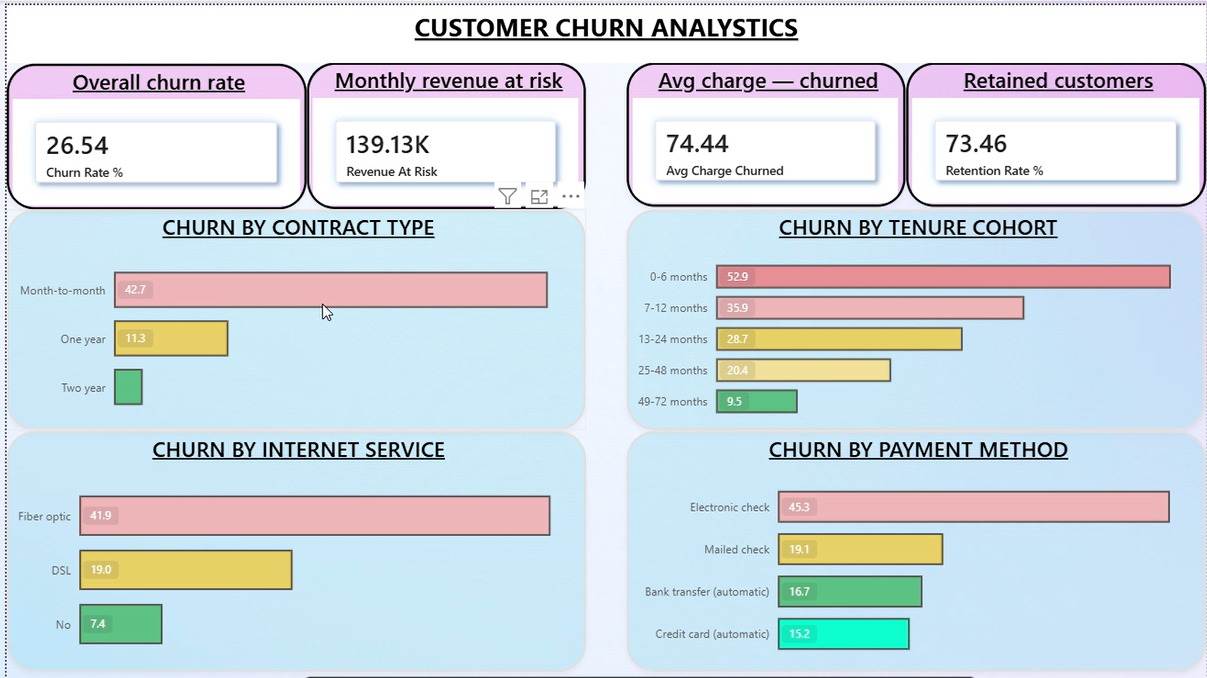

The dashboard page shown, as its layout file describes it:
{"tool":"powerbi","page":{"name":"Page 1","canvas":[1280,720],"ordinal":0},"visuals":[{"type":"cardVisual","title":"Overall churn rate","fields":{"Data":["Telco-Customer-Churn-Dataset.Churn Rate %"]},"box":[0,62.8,320,155.1],"z":0},{"type":"cardVisual","title":"Monthly revenue at risk","fields":{"Data":["Telco-Customer-Churn-Dataset.Revenue At Risk"]},"box":[320,61.5,297.8,156.3],"z":1000},{"type":"cardVisual","title":"Avg charge — churned","fields":{"Data":["Telco-Customer-Churn-Dataset.Avg Charge Churned"]},"box":[662.2,61.5,297.8,153.8],"z":2000},{"type":"cardVisual","title":"Retained customers","fields":{"Data":["Telco-Customer-Churn-Dataset.Retention Rate %"]},"box":[960,61.5,320,153.8],"z":3000},{"type":"clusteredBarChart","title":"CHURN BY CONTRACT TYPE","fields":{"Category":["Telco-Customer-Churn-Dataset.Contract"],"Y":["Telco-Customer-Churn-Dataset.Contract Churn Rate"]},"box":[0,217.8,617.8,235.1],"z":4000},{"type":"clusteredBarChart","title":"CHURN BY TENURE COHORT","fields":{"Category":["Telco-Customer-Churn-Dataset.Tenure Cohort"],"Y":["Telco-Customer-Churn-Dataset.Churn Rate %"]},"box":[662.2,217.8,617.8,235.1],"z":5000},{"type":"clusteredBarChart","title":"CHURN BY INTERNET SERVICE","fields":{"Category":["Telco-Customer-Churn-Dataset.InternetService"],"Y":["Telco-Customer-Churn-Dataset.Churn Rate %"]},"box":[0,453.3,618.3,256.7],"z":6000},{"type":"clusteredBarChart","title":"CHURN BY PAYMENT METHOD","fields":{"Y":["Telco-Customer-Churn-Dataset.Churn Rate %"],"Category":["Telco-Customer-Churn-Dataset.PaymentMethod"]},"box":[661.7,453.3,618.3,256.7],"z":7000},{"type":"textbox","box":[0,0,1280,61.5],"z":8000}]}

Visuals, with their boxes in screenshot pixels (x1, y1, x2, y2), scaled from the page's 1280x720 canvas onto the 1207x678 screenshot:
"Overall churn rate" cardVisual: l=0, t=59, r=302, b=205
"Monthly revenue at risk" cardVisual: l=302, t=58, r=583, b=205
"Avg charge — churned" cardVisual: l=624, t=58, r=905, b=203
"Retained customers" cardVisual: l=905, t=58, r=1206, b=203
"CHURN BY CONTRACT TYPE" clusteredBarChart: l=0, t=205, r=583, b=426
"CHURN BY TENURE COHORT" clusteredBarChart: l=624, t=205, r=1206, b=426
"CHURN BY INTERNET SERVICE" clusteredBarChart: l=0, t=427, r=583, b=669
"CHURN BY PAYMENT METHOD" clusteredBarChart: l=624, t=427, r=1206, b=669
textbox: l=0, t=0, r=1206, b=58
